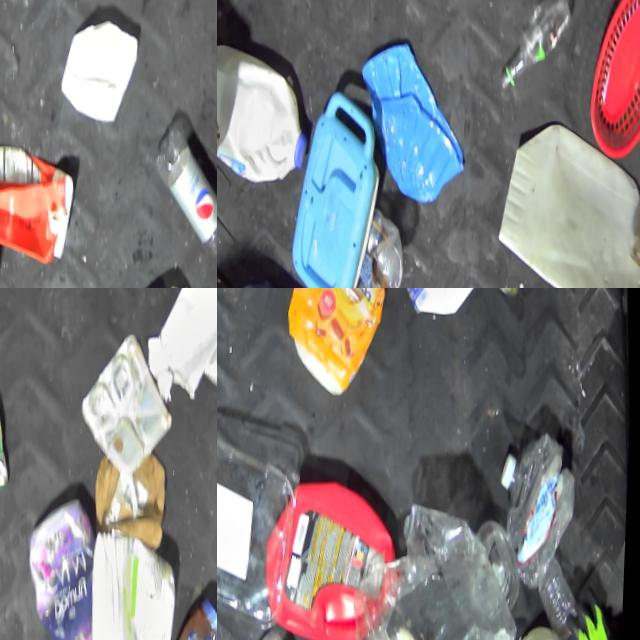can: (196, 288, 217, 417), (0, 381, 17, 520)
milk_jug: (217, 46, 314, 189)
non_white_jug: (263, 481, 402, 640), (23, 485, 114, 640), (279, 288, 393, 398), (0, 122, 81, 276), (218, 277, 341, 288)
plastic_bottle: (497, 420, 579, 590), (154, 120, 217, 287), (498, 0, 574, 99)
